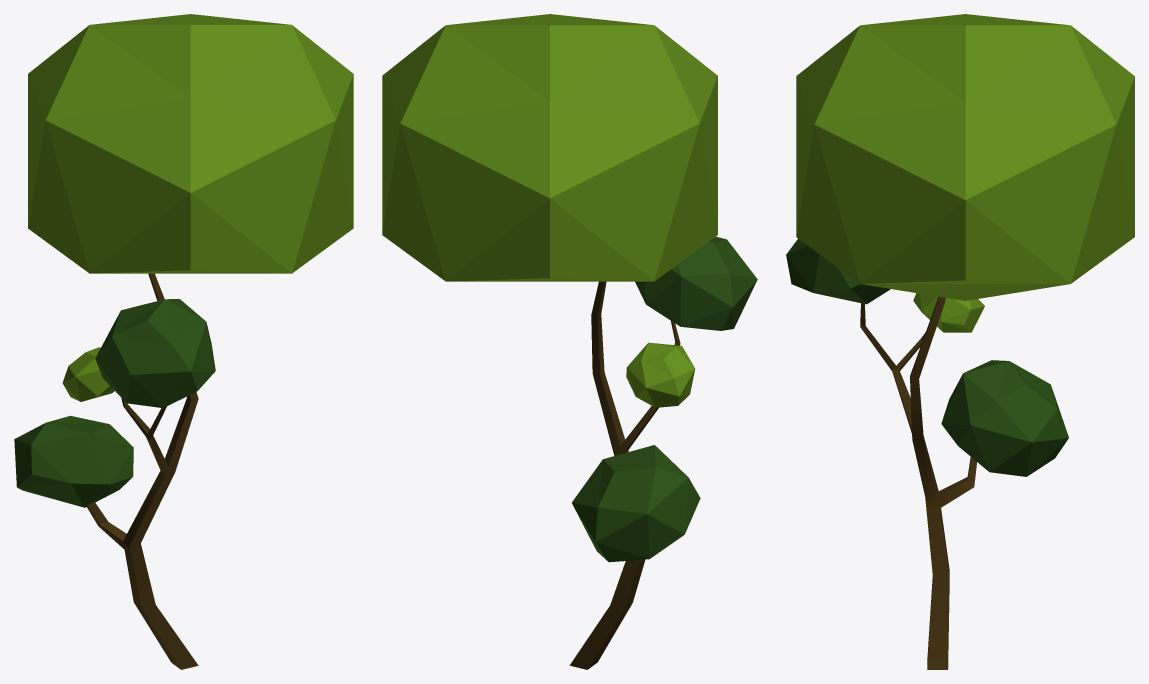
Rendered from small_tree_3.fbx.
3 renders of one model, left to right at view 1: azimuth 30°, elevation 25°; view 2: azimuth 150°, elevation 25°; view 3: azimuth 270°, elevation 25°, orthographic. The views are drawn at different scales.
Visible parts, largest first — view 1: GeoSphere031, GeoSphere032, GeoSphere034, Box003, GeoSphere033; view 2: GeoSphere031, GeoSphere034, GeoSphere032, Box003, GeoSphere033; view 3: GeoSphere031, GeoSphere034, Box003, GeoSphere032, GeoSphere033.
Boxes of the visible parts, x1,y1,x2,y2 form: GeoSphere031: [28, 14, 353, 273]; GeoSphere032: [95, 299, 215, 407]; GeoSphere034: [14, 416, 133, 507]; Box003: [87, 273, 198, 669]; GeoSphere033: [62, 347, 114, 401]; GeoSphere031: [382, 14, 717, 281]; GeoSphere034: [572, 445, 700, 562]; GeoSphere032: [635, 236, 757, 330]; Box003: [570, 281, 680, 669]; GeoSphere033: [626, 342, 695, 407]; GeoSphere031: [796, 14, 1134, 300]; GeoSphere034: [941, 360, 1068, 476]; Box003: [860, 296, 976, 669]; GeoSphere032: [786, 239, 890, 304]; GeoSphere033: [913, 293, 984, 332].
Size of the model in its own units: 181 by 343 by 167.
